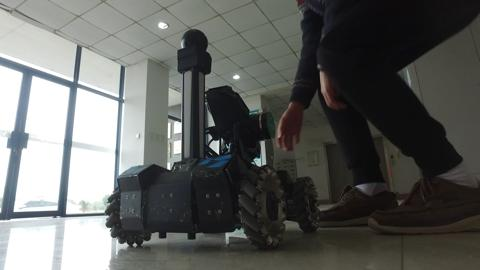chariot: (88, 28, 328, 252)
